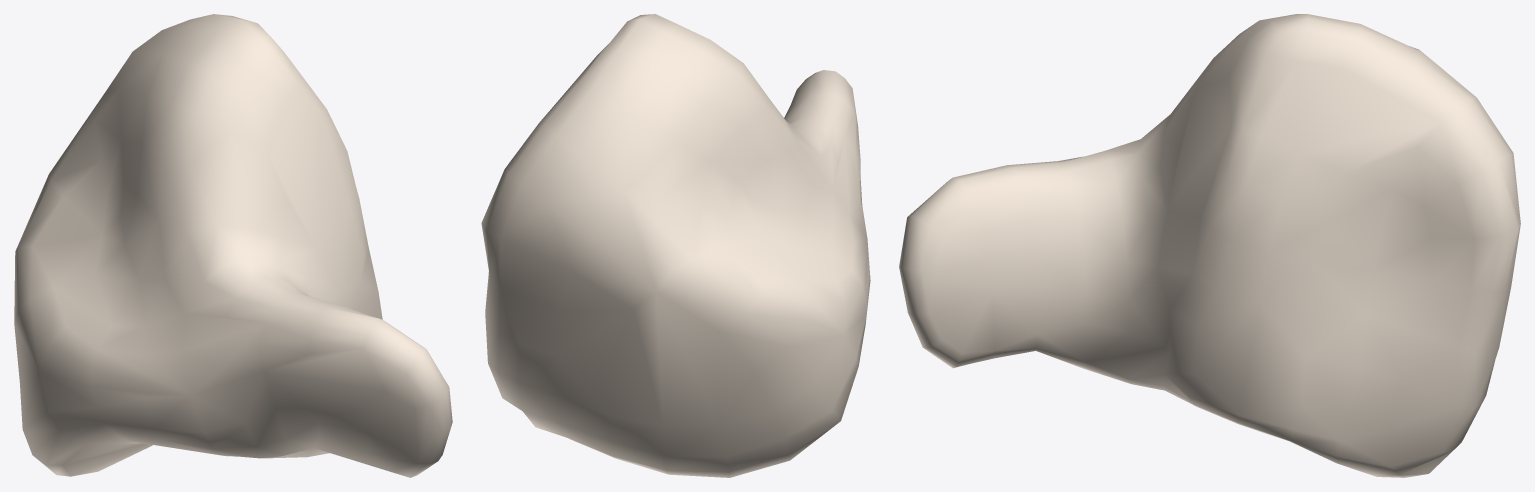
File: left_hamate.glb
3 views of the same model, side by side, from view 1: azimuth 30°, elevation 25°; view 2: azimuth 150°, elevation 25°; view 3: azimuth 270°, elevation 25° (orthographic). The views are drawn at different scales.
Visible parts, largest first — view 1: Hamate.r; view 2: Hamate.r; view 3: Hamate.r.
Part boxes in pixels (x1,y1,x2,y2): Hamate.r: (14,14,452,477); Hamate.r: (481,14,870,477); Hamate.r: (899,14,1520,477).
Bounding box in the file's own units: 0.0148 × 0.0194 × 0.0238.
